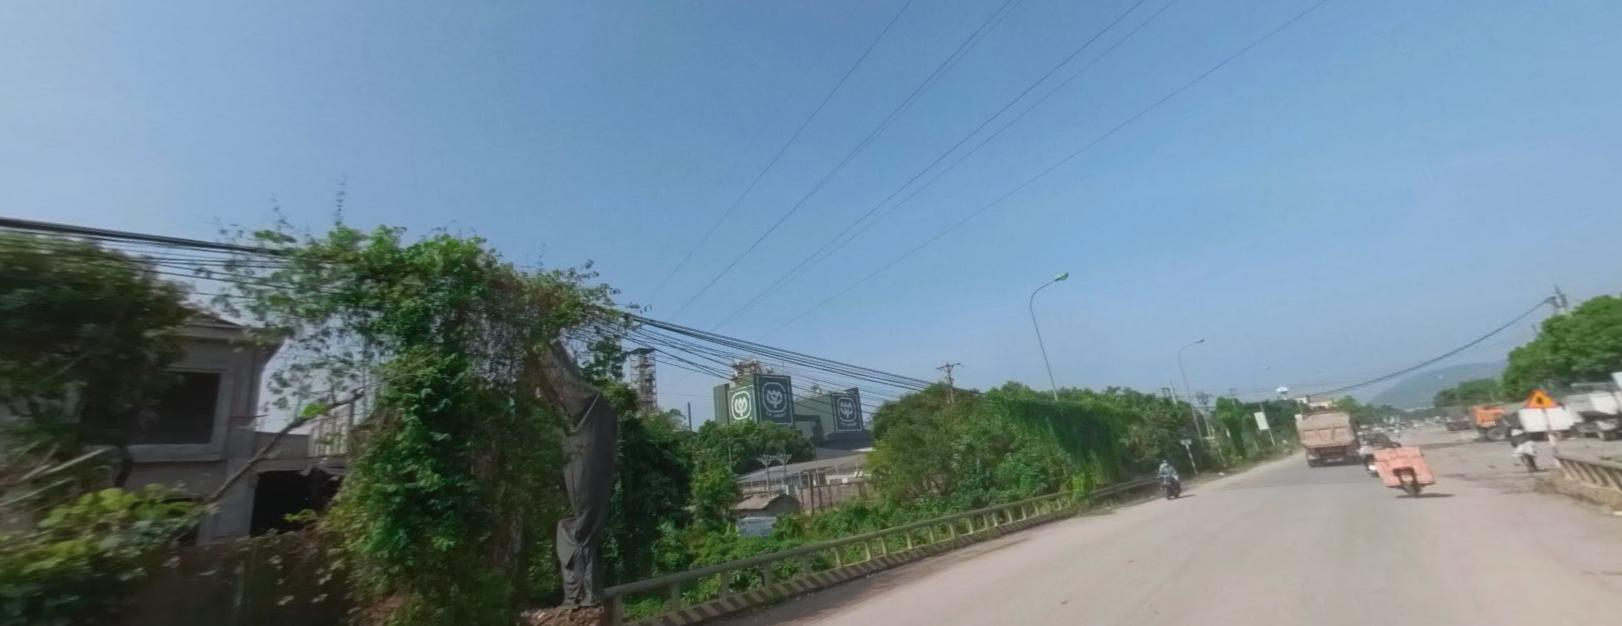Nguy hiem: (1526, 388, 1557, 406)
